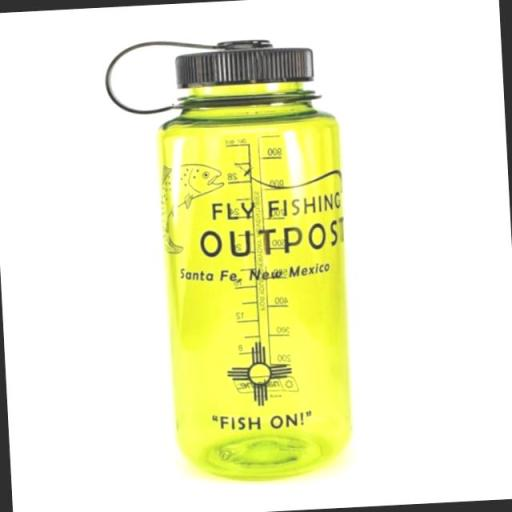bottle: (102, 29, 358, 491)
